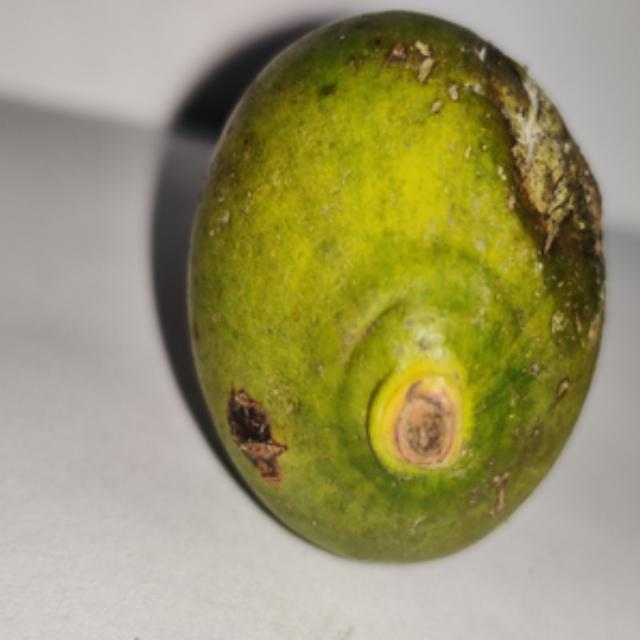damaged: (182, 11, 606, 567)
